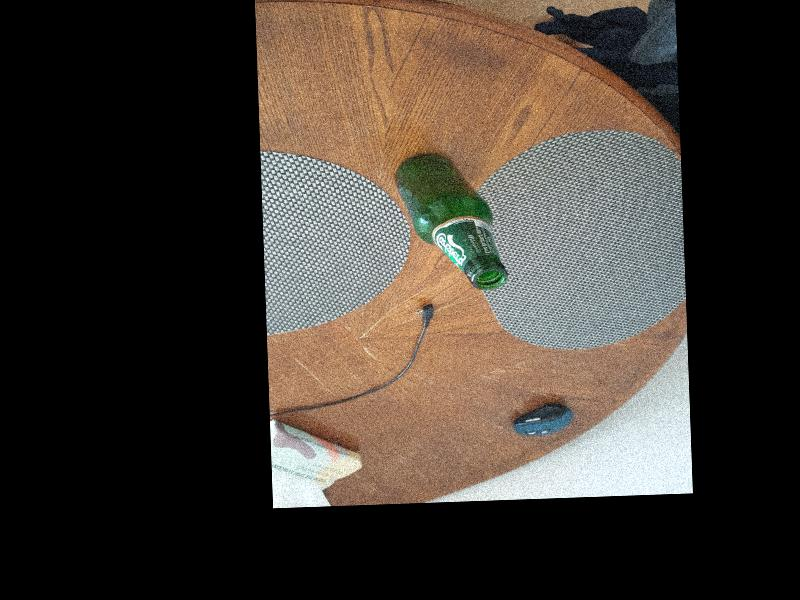Beer: (388, 148, 509, 293)
